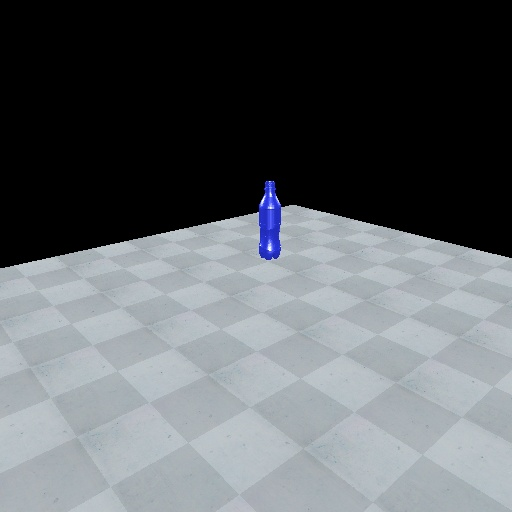bottle: (257, 178, 283, 263)
